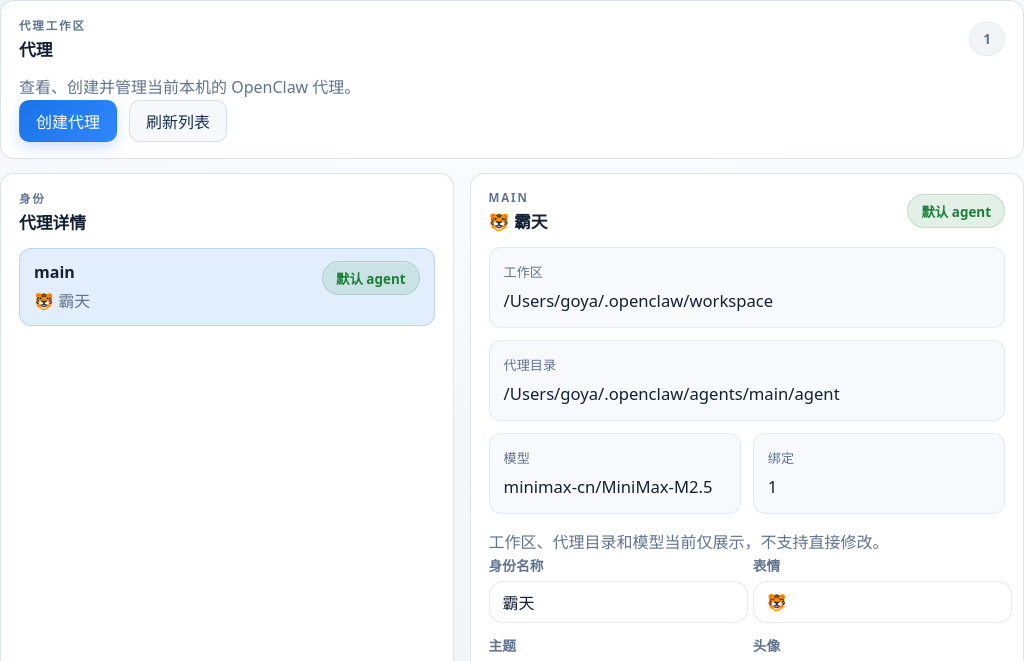
Test: AppAgentsSection › shows dirty-state hint after identity fields are edited
The image size is (1024, 661).
Step 1. Replace the text in the field labelled "身份名称" with "新身份" → (618, 602), box [489, 581, 748, 623]
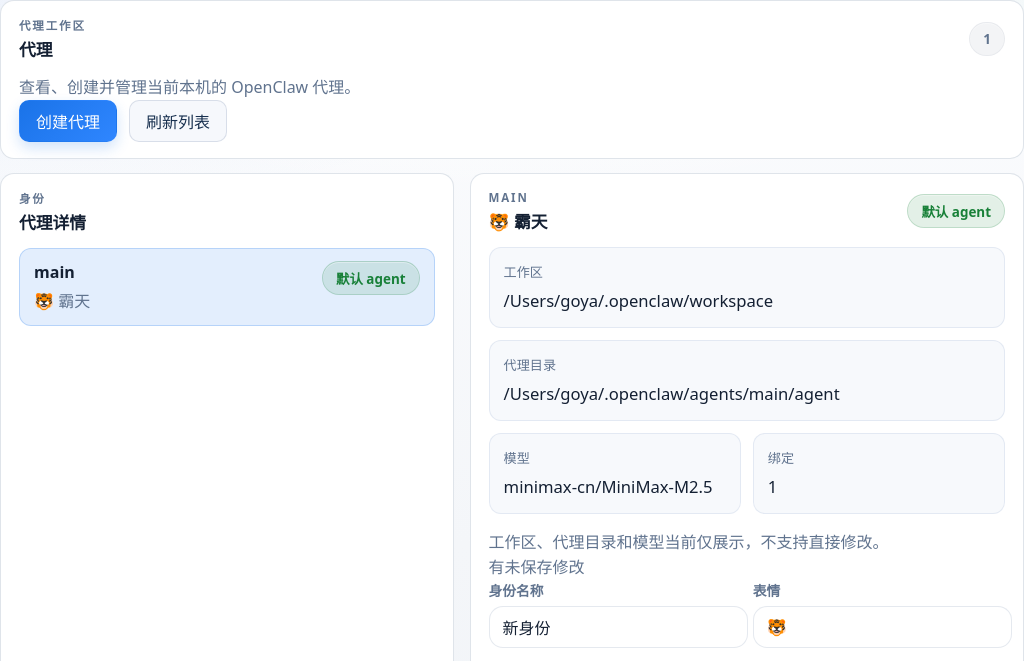
Expected: the text "有未保存修改" is shown, [489, 556, 585, 578]
